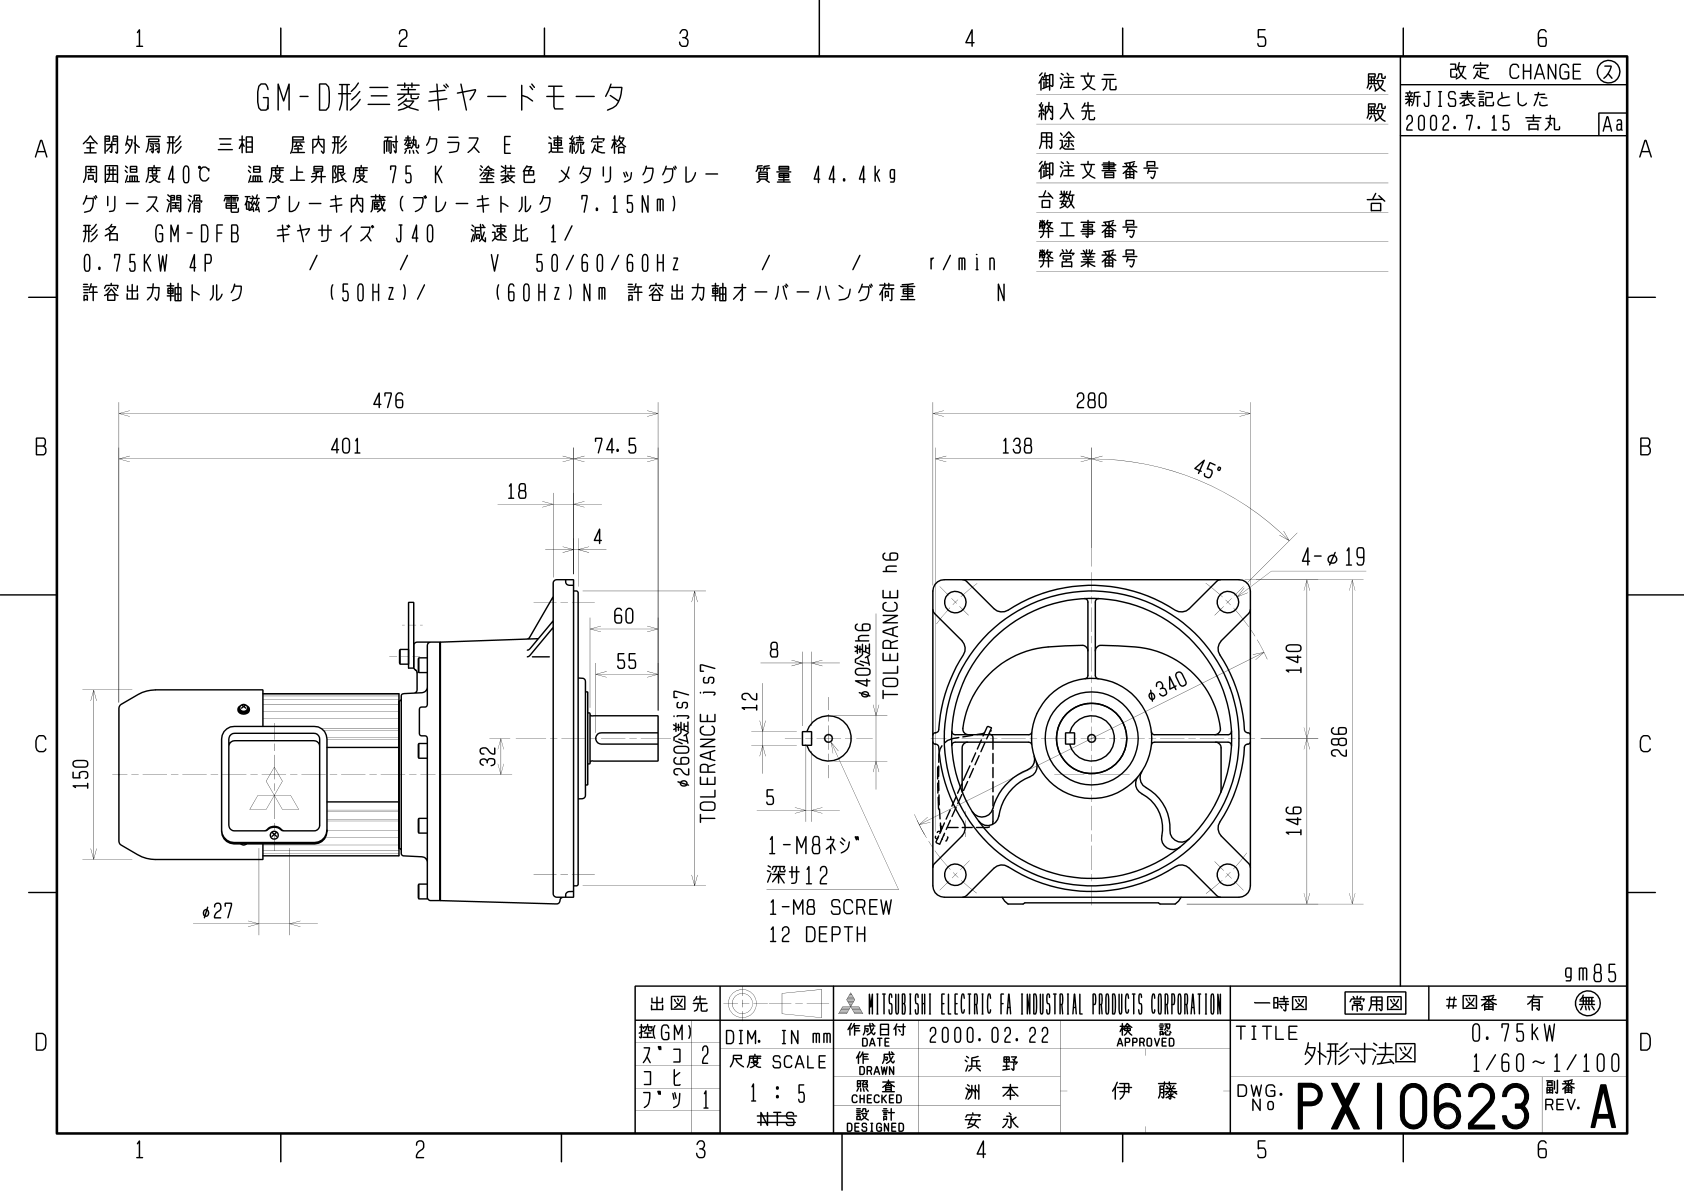GM_D_屋内＿三相_フランジ: (63, 360, 1385, 955)
